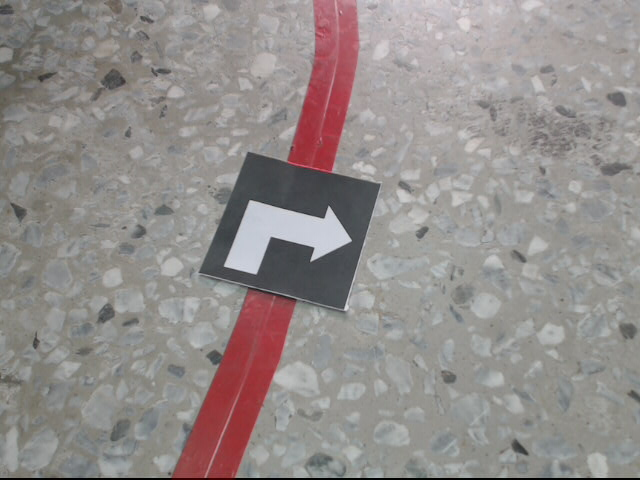right: (200, 152, 379, 313)
